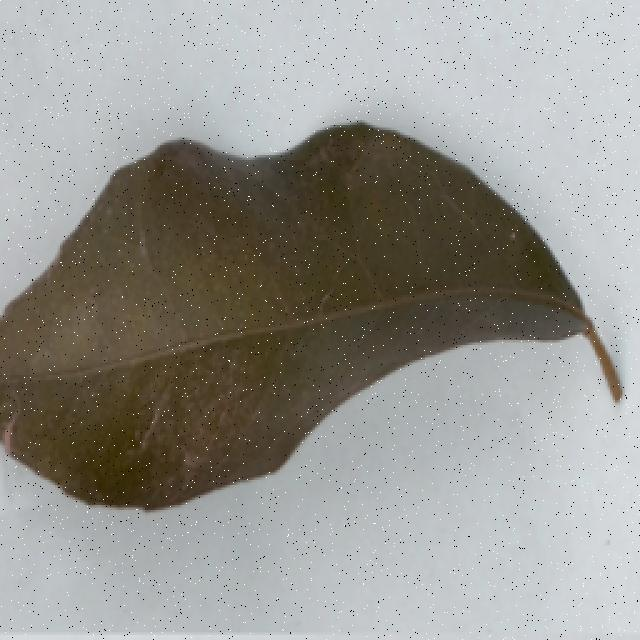healthy: (3, 111, 624, 521)
